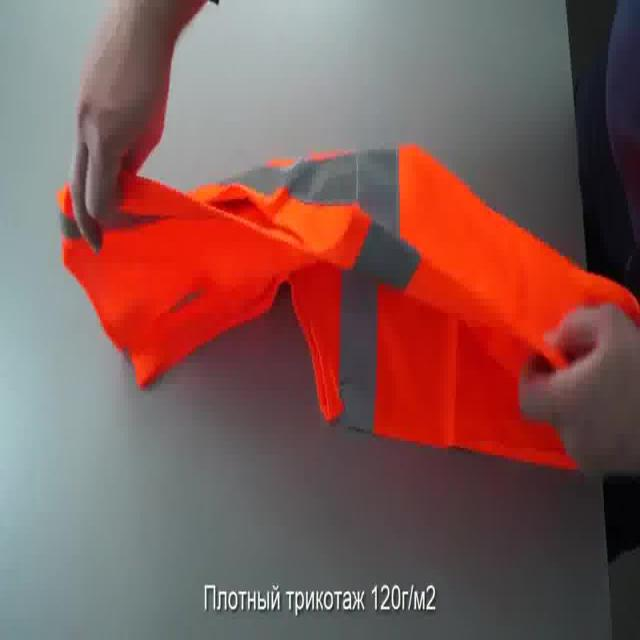glove: (53, 135, 640, 477)
